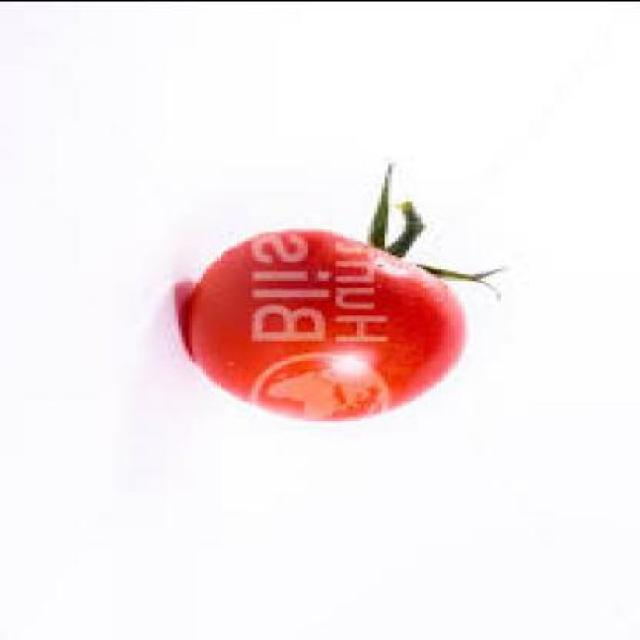BIODEGRADABLE: (182, 165, 508, 421)
